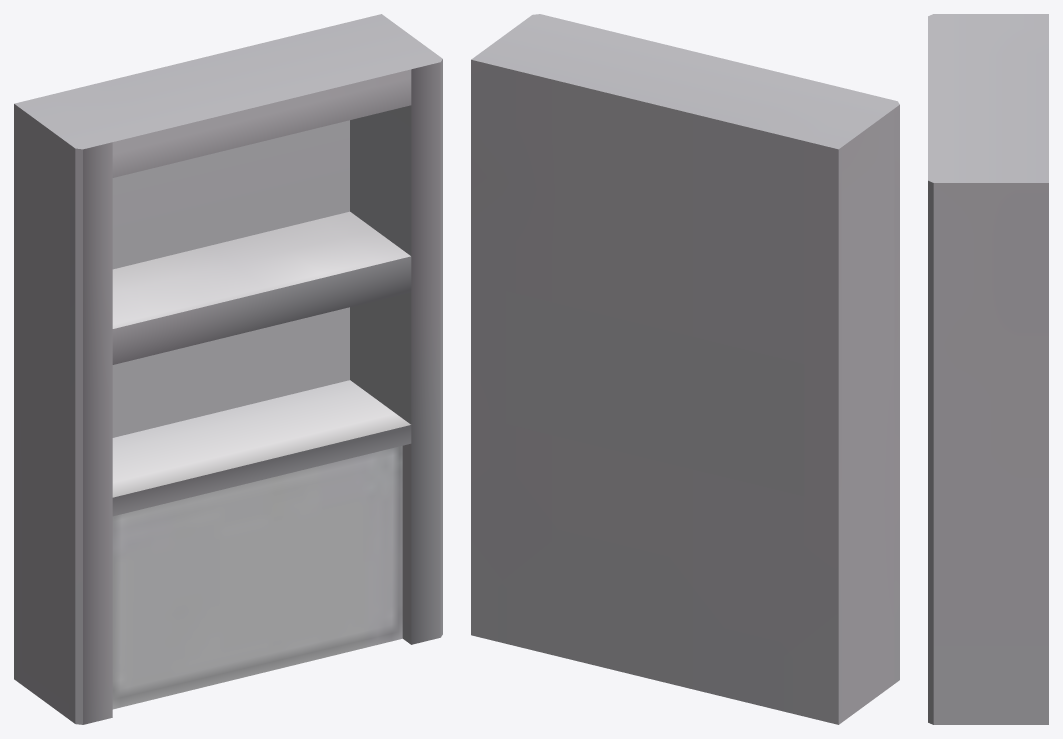
File: bookshelf.fbx
3 renders of one model, left to right at view 1: azimuth 30°, elevation 25°; view 2: azimuth 150°, elevation 25°; view 3: azimuth 270°, elevation 25°, orthographic. The views are drawn at different scales.
Visible parts, largest first — view 1: bookshelf; view 2: bookshelf; view 3: bookshelf.
Part boxes in pixels (x1=…): bookshelf: x1=14, y1=14, x2=442, y2=724; bookshelf: x1=471, y1=14, x2=899, y2=724; bookshelf: x1=928, y1=14, x2=1048, y2=724.
Bounding box in the file's own units: 134 × 200 × 40.37.
